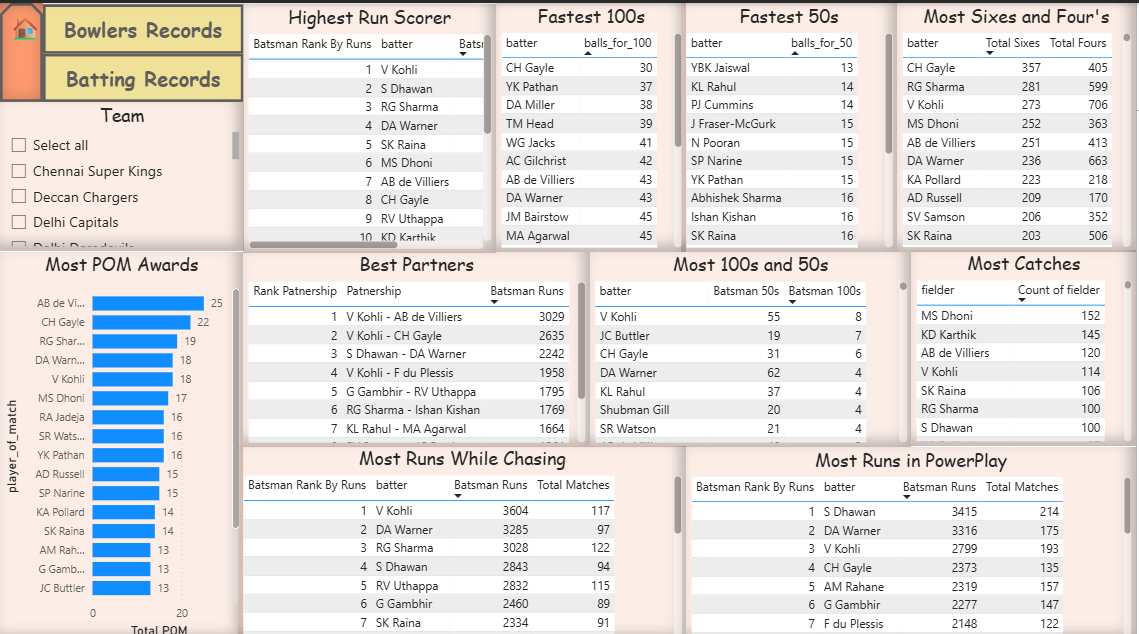

The page's visual inventory and layout, read from the dashboard file:
{"tool":"powerbi","page":{"name":"Records and Milestone","canvas":[1280,720],"ordinal":9},"visuals":[{"type":"tableEx","title":"Highest Run Scorer","fields":{"Values":["deliveries.Batsman Rank By Runs","Batter Team.batter","deliveries.Batsman Runs","deliveries.Total Matches"]},"box":[274.8,1.9,284.6,280.7],"z":0},{"type":"tableEx","title":"Most 100s and 50s","fields":{"Values":["Batter Team.batter","deliveries.Batsman 50s","deliveries.Batsman 100s"]},"box":[664.6,280.7,362.5,220.2],"z":1000},{"type":"tableEx","title":"Most Sixes and Four''s","fields":{"Values":["Batter Team.batter","deliveries.Total Sixes","deliveries.Total Fours"]},"box":[1011.1,0,268.5,280.3],"z":2000},{"type":"clusteredBarChart","title":"Most POM Awards","fields":{"Category":["matches.player_of_match"],"Y":["deliveries.Total POM"]},"box":[0,280.3,274.4,440.2],"z":3000},{"type":"tableEx","title":"Best Partners","fields":{"Values":["deliveries.Rank Patnership","deliveries.Patnership","deliveries.Batsman Runs"]},"box":[274.4,280.3,390.3,220.1],"z":4000},{"type":"tableEx","title":"Fastest 100s","fields":{"Values":["fastest_100s.batter","fastest_100s.balls_for_100"]},"box":[559.4,0,214.4,280.7],"z":5000},{"type":"tableEx","title":"Fastest 50s","fields":{"Values":["fastest_50s.batter","fastest_50s.balls_for_50"]},"box":[767.9,0,243.6,280.7],"z":6000},{"type":"tableEx","title":"Most Catches","fields":{"Values":["deliveries.fielder1","deliveries.fielder"]},"box":[1027.1,278.7,253.4,220.2],"z":7000},{"type":"tableEx","title":"Most Runs While Chasing","fields":{"Values":["deliveries.Batsman Rank By Runs","Batter Team.batter","deliveries.Batsman Runs","deliveries.Total Matches"]},"box":[269,499,504.8,220.2],"z":8000},{"type":"tableEx","title":"Most Runs in PowerPlay","fields":{"Values":["deliveries.Batsman Rank By Runs","Batter Team.batter","deliveries.Batsman Runs","deliveries.Total Matches"]},"box":[773.8,500.9,506.7,218.3],"z":9000},{"type":"slicer","title":"Team","fields":{"Values":["matches.team1"]},"box":[0,111.1,274.8,167.6],"z":15000},{"type":"actionButton","title":"Bowlers Records","box":[48.4,1.5,226,55.8],"z":16000},{"type":"actionButton","title":"Bowlers Records","box":[48.4,57.2,226,54.3],"z":17000},{"type":"actionButton","box":[0,0,48.4,111.5],"z":18000}]}

Visuals, with their boxes on the page's 1280x720 design canvas (x1, y1, x2, y2). These are canvas units, not pixel positions in the 1139x634 screenshot, which may show the page scaled, cropped or inside an application window:
"Highest Run Scorer" tableEx: 275:2:559:283
"Most 100s and 50s" tableEx: 665:281:1027:501
"Most Sixes and Four''s" tableEx: 1011:0:1280:280
"Most POM Awards" clusteredBarChart: 0:280:274:720
"Best Partners" tableEx: 274:280:665:500
"Fastest 100s" tableEx: 559:0:774:281
"Fastest 50s" tableEx: 768:0:1012:281
"Most Catches" tableEx: 1027:279:1280:499
"Most Runs While Chasing" tableEx: 269:499:774:719
"Most Runs in PowerPlay" tableEx: 774:501:1280:719
"Team" slicer: 0:111:275:279
"Bowlers Records" actionButton: 48:2:274:57
"Bowlers Records" actionButton: 48:57:274:112
actionButton: 0:0:48:112
